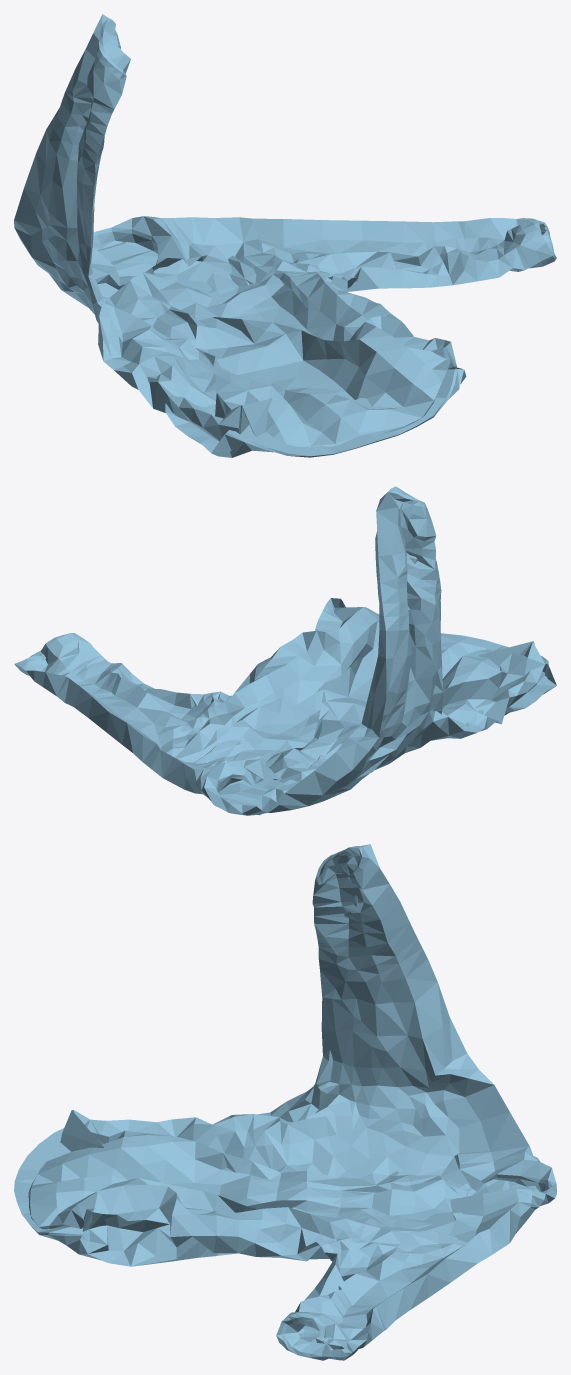
The model's file is frame_12.glb.
3 views of the same model, one above another, from view 1: azimuth 30°, elevation 25°; view 2: azimuth 150°, elevation 25°; view 3: azimuth 270°, elevation 25° (orthographic). The views are drawn at different scales.
Parts seen in each view (by area): view 1: frame_12.obj; view 2: frame_12.obj; view 3: frame_12.obj.
Part boxes in pixels (x1,y1,x2,y2): frame_12.obj: [14, 14, 556, 457]; frame_12.obj: [14, 486, 556, 815]; frame_12.obj: [14, 844, 556, 1360].
Size of the model in its own units: 1.4 by 0.9368 by 1.39.
